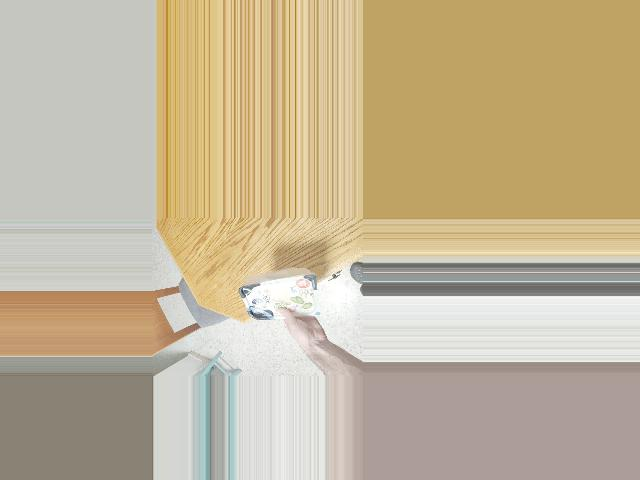cheese: (243, 272, 316, 328)
